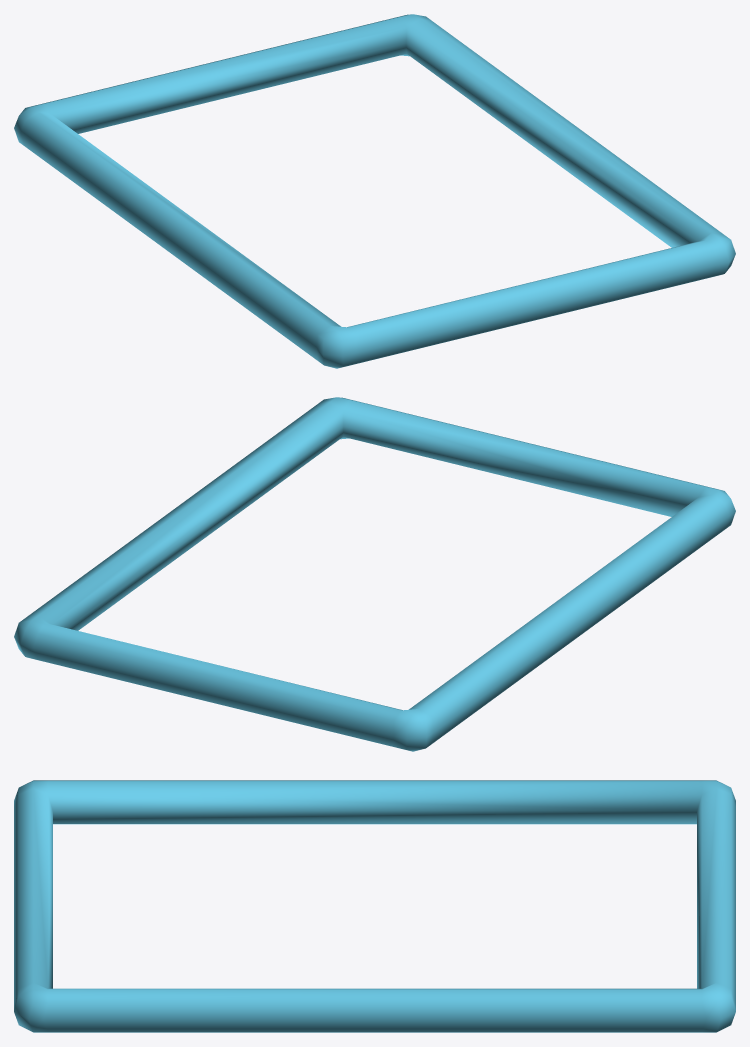
The model's file is CardOutline.fbx.
The picture shows the model from 3 angles, top to bottom: view 1: azimuth 30°, elevation 25°; view 2: azimuth 150°, elevation 25°; view 3: azimuth 270°, elevation 25°; orthographic projection. The views are drawn at different scales.
Parts seen in each view (by area): view 1: Plane; view 2: Plane; view 3: Plane.
Part boxes in pixels (x1,y1,x2,y2): Plane: (14, 14, 735, 368); Plane: (14, 397, 735, 751); Plane: (14, 780, 735, 1032).
Bounding box in the file's own units: 123 × 10.86 × 166.
